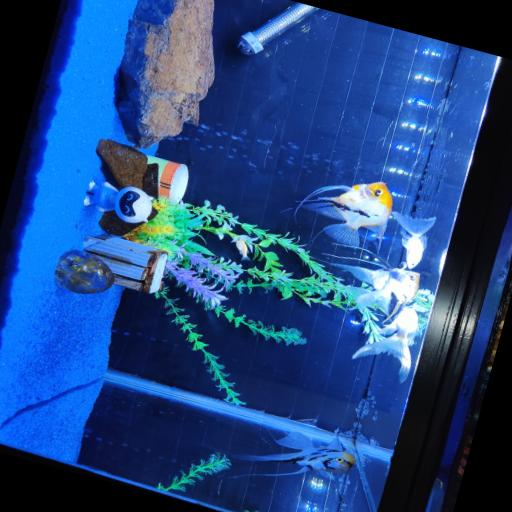Fish: (296, 181, 391, 245), (230, 431, 354, 476), (331, 258, 419, 318), (352, 306, 418, 381), (391, 211, 435, 267), (231, 234, 257, 259)
